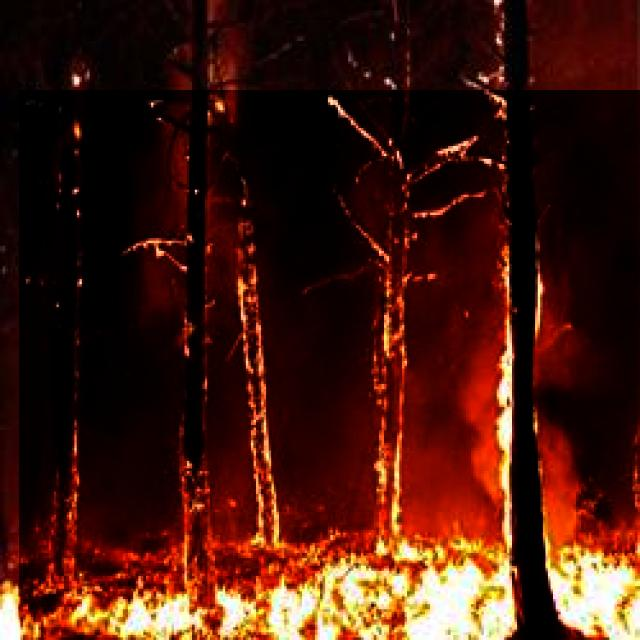Fire: (19, 90, 640, 640)
